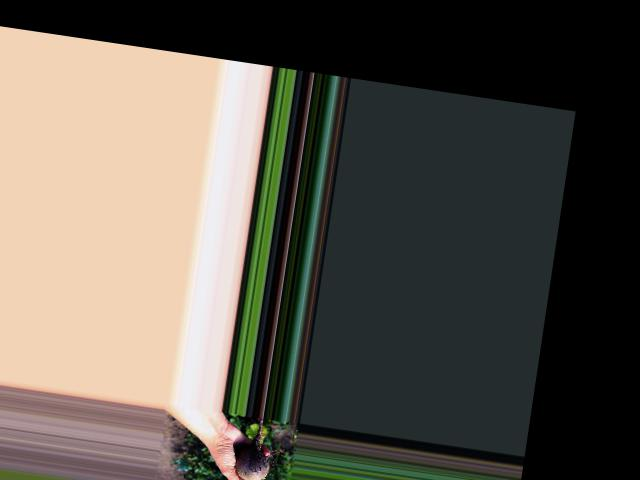beet: (215, 412, 290, 480)
